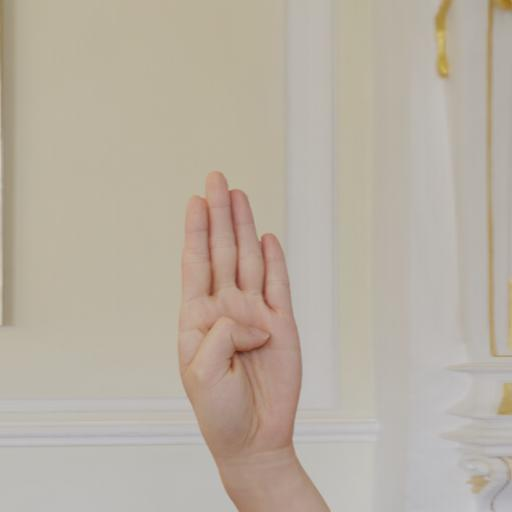B: (157, 163, 328, 512)
